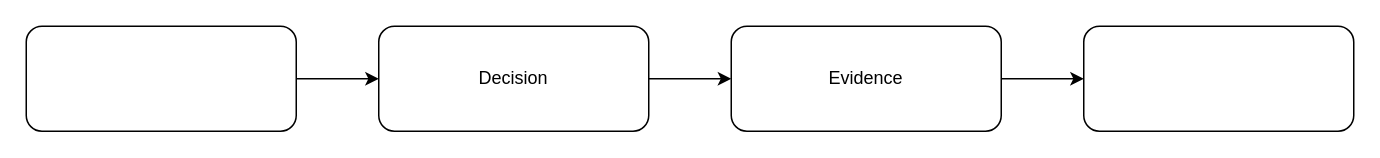
Image size: 1380x158. Some labels were removed from this diagram. Each missing label, with the centre of its shape:
"Input" belongs at [160,78].
"Outcome" belongs at [1218,78].
